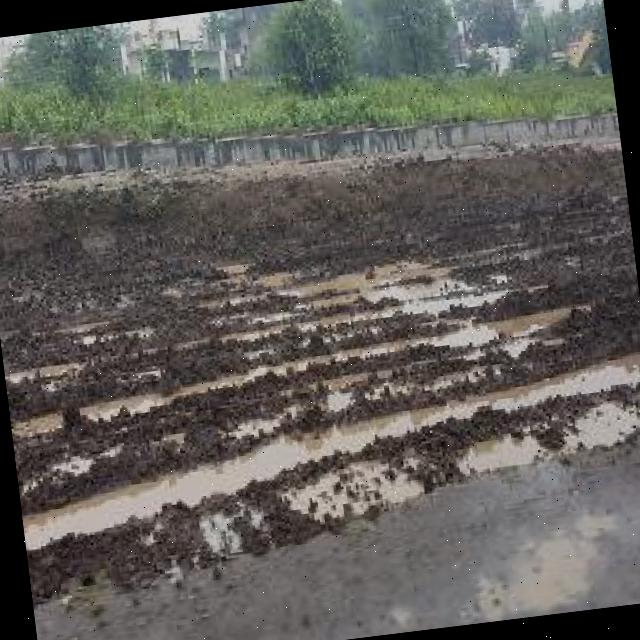stagnation: (21, 351, 635, 554)
